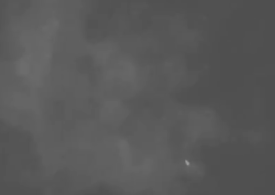Target: (185, 160, 188, 164)
